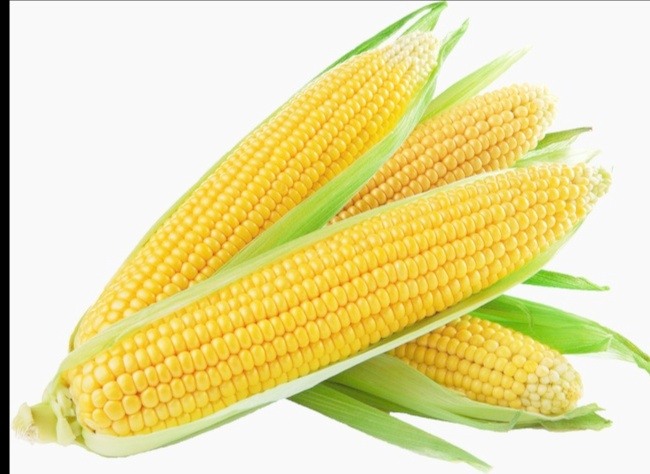corn: (61, 157, 601, 437), (78, 18, 437, 344)
